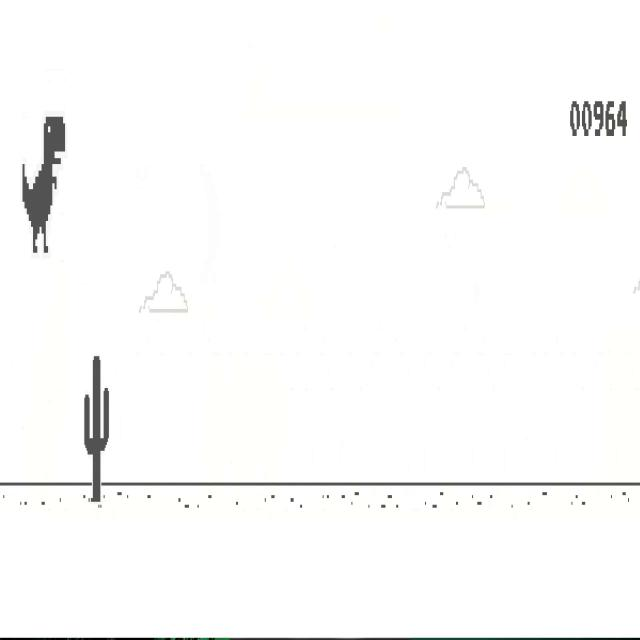cacto: (84, 354, 109, 502)
dino: (21, 116, 66, 254)
